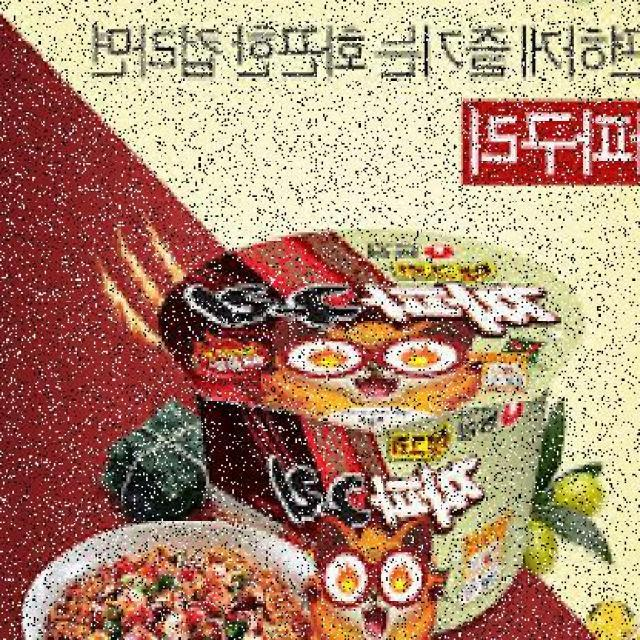Miscellaneous: (171, 229, 584, 640)
